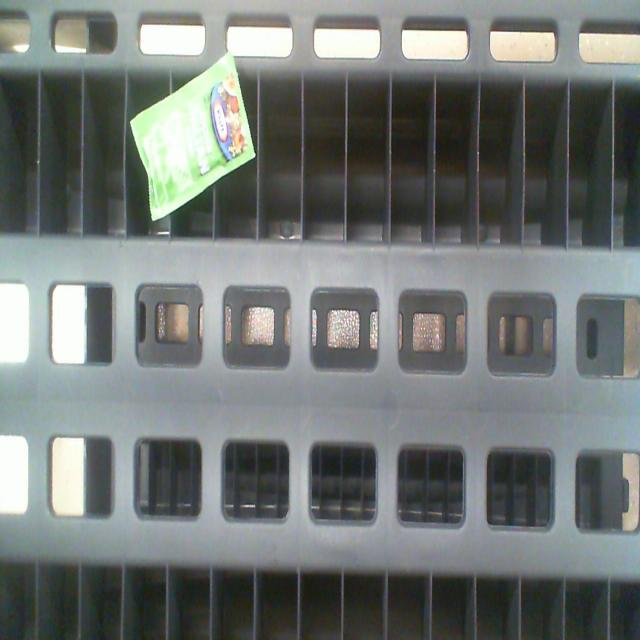snack: (130, 54, 256, 220)
